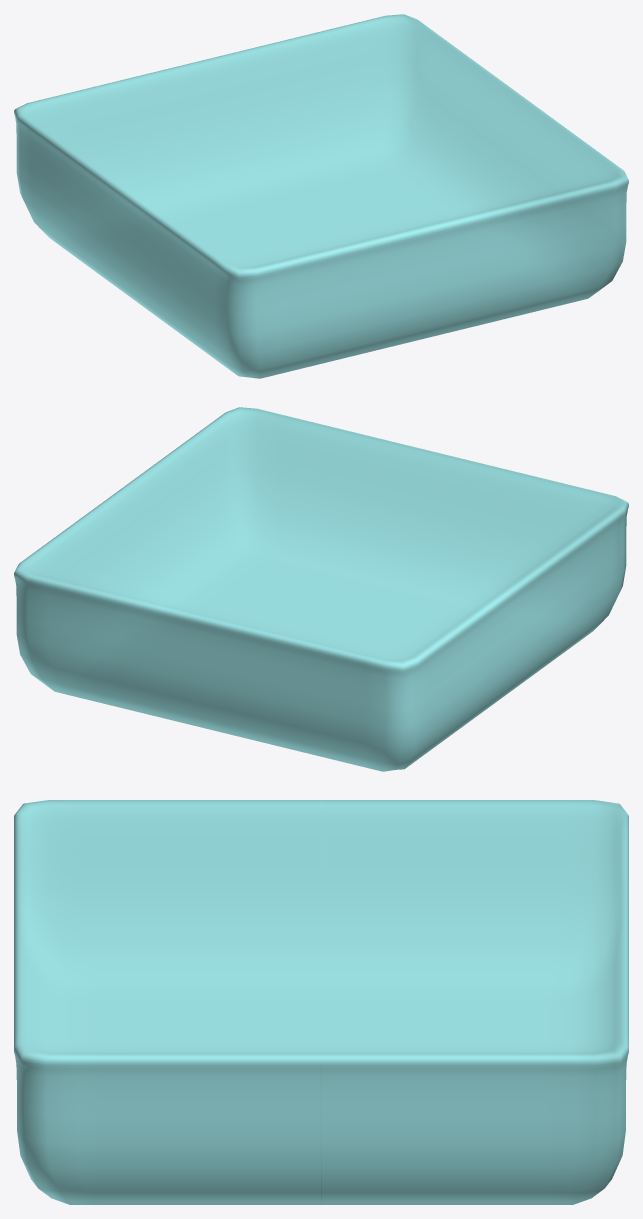
File: Regular.fbx
3 renders of one model, top to bottom at view 1: azimuth 30°, elevation 25°; view 2: azimuth 150°, elevation 25°; view 3: azimuth 270°, elevation 25°, orthographic. The views are drawn at different scales.
Parts seen in each view (by area): view 1: pCube1; view 2: pCube1; view 3: pCube1.
Part boxes in pixels (bbox=[...]): pCube1: bbox=[14, 14, 628, 378]; pCube1: bbox=[14, 407, 628, 771]; pCube1: bbox=[14, 800, 628, 1204].
Size of the model in its own units: 2.02 by 0.6094 by 2.02.
